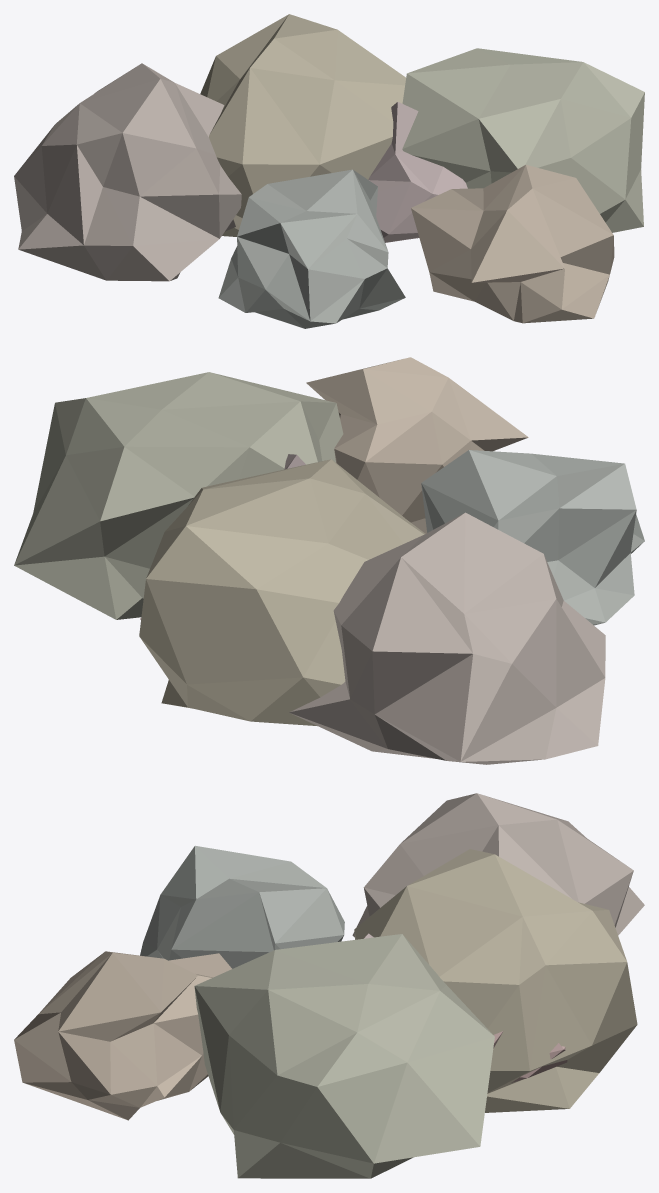
File: rock_cluster_b.glb
3 renders of one model, top to bottom at view 1: azimuth 30°, elevation 25°; view 2: azimuth 150°, elevation 25°; view 3: azimuth 270°, elevation 25°, orthographic. The views are drawn at different scales.
Visible parts, largest first — view 1: RockCluster_17; view 2: RockCluster_17; view 3: RockCluster_17.
Part boxes in pixels (<box>): RockCluster_17: <box>14,14,644,328</box>; RockCluster_17: <box>14,357,644,764</box>; RockCluster_17: <box>14,793,644,1178</box>.
Bounding box in the file's own units: 2.55 × 0.8796 × 2.31.
